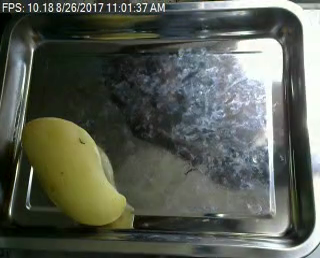Mango: (18, 114, 132, 227)
